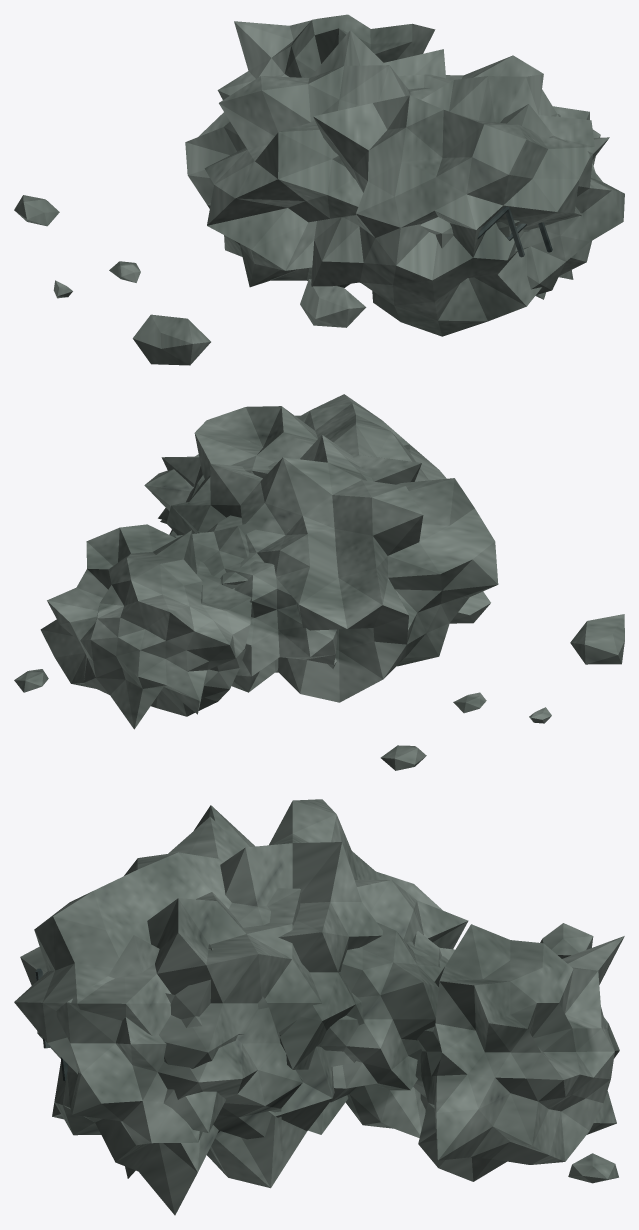
File: 0010_boulder_10.glb
The picture shows the model from 3 angles, top to bottom: view 1: azimuth 30°, elevation 25°; view 2: azimuth 150°, elevation 25°; view 3: azimuth 270°, elevation 25°; orthographic projection. The views are drawn at different scales.
Visible parts, largest first — view 1: stone, stone_dark; view 2: stone; view 3: stone.
Part boxes in pixels (bbox=[...]): stone: bbox=[14, 14, 624, 365]; stone_dark: bbox=[477, 206, 552, 257]; stone: bbox=[14, 394, 624, 770]; stone: bbox=[14, 799, 624, 1215].
Bounding box in the file's own units: 2.46 × 1.18 × 2.26.
Materials: 2 (2 with a texture image).
